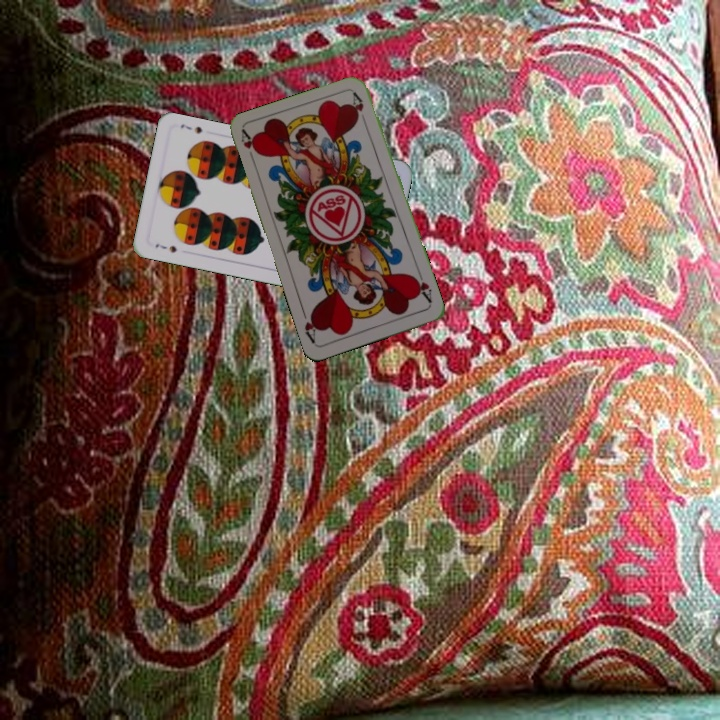HA: (409, 267, 435, 306), (237, 127, 262, 167)
S7: (151, 240, 179, 255)
